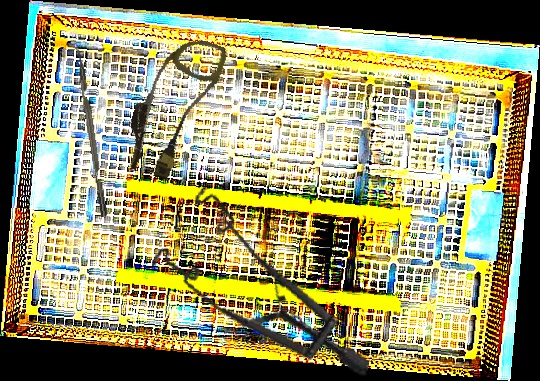Cannula: (116, 27, 230, 186)
Chopper: (67, 40, 108, 219)
Speculum: (138, 179, 395, 378)
